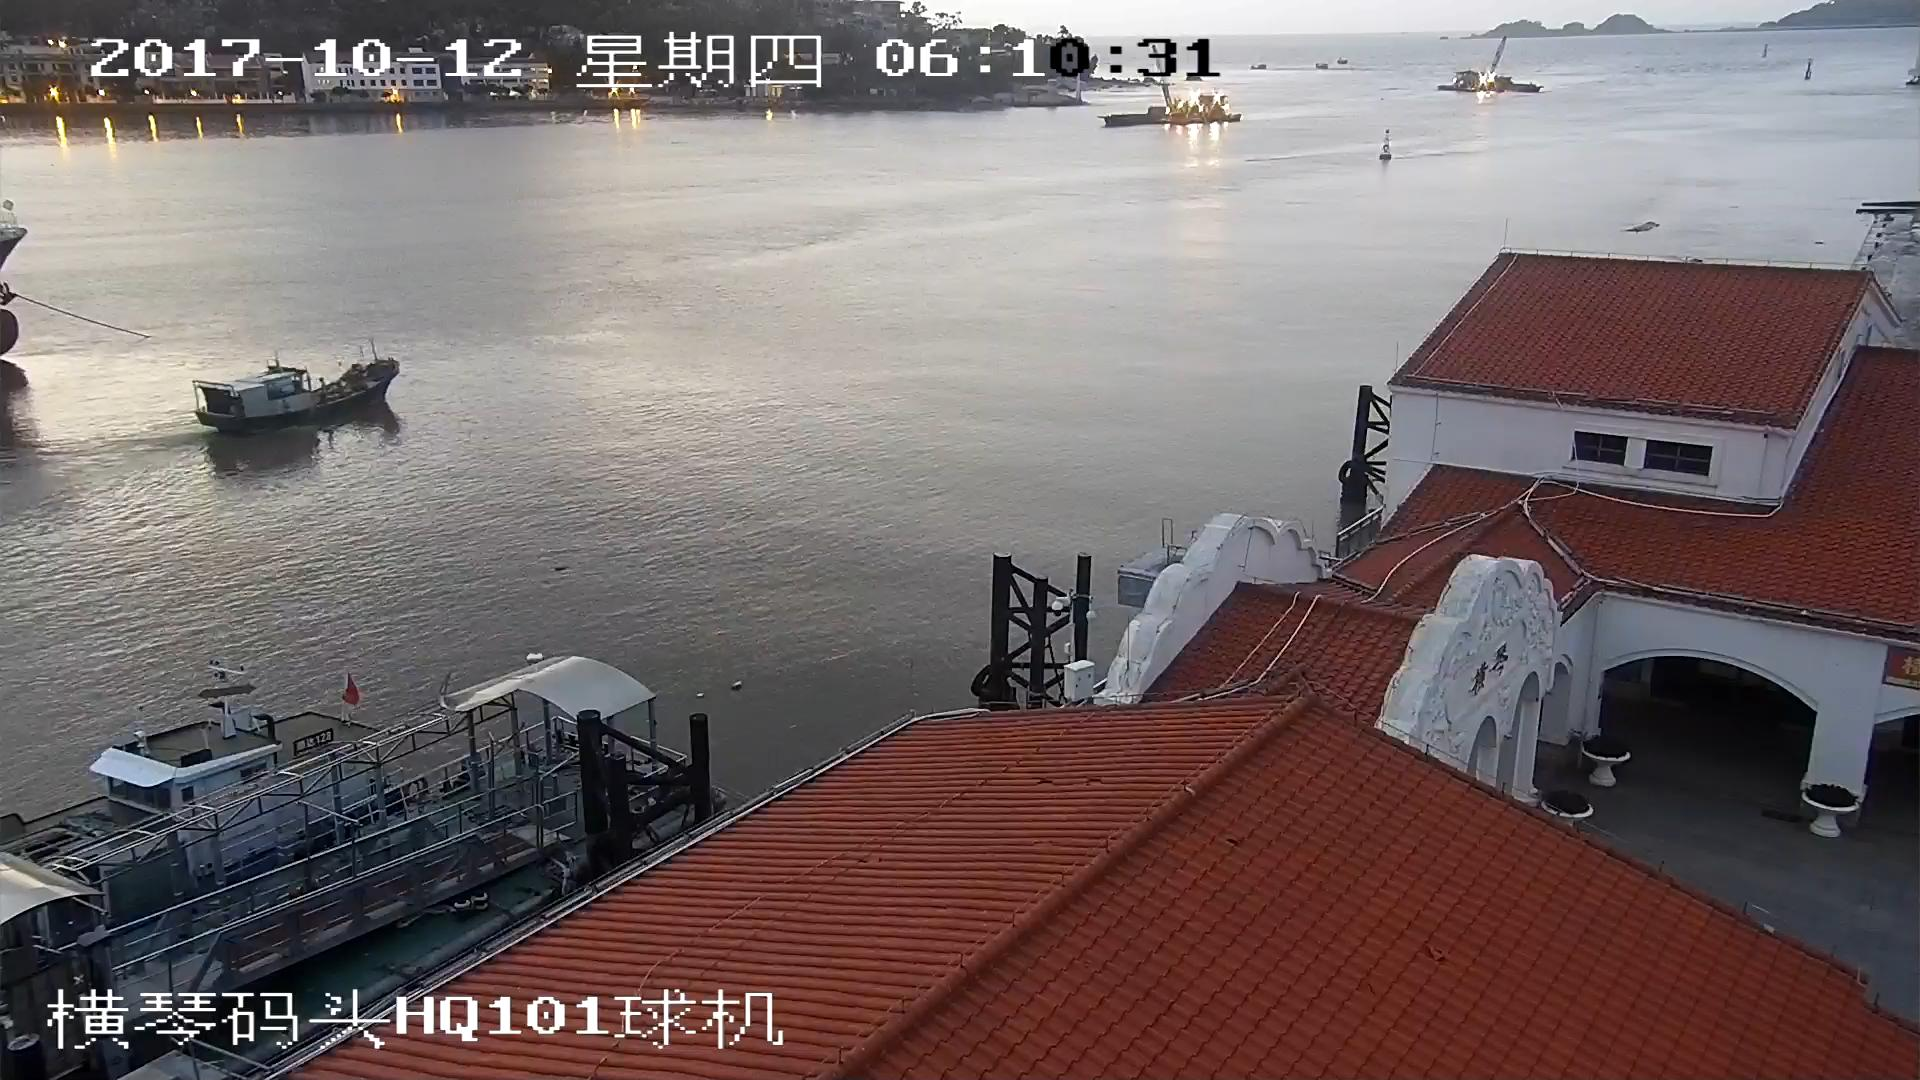fishing boat: (186, 358, 397, 413)
